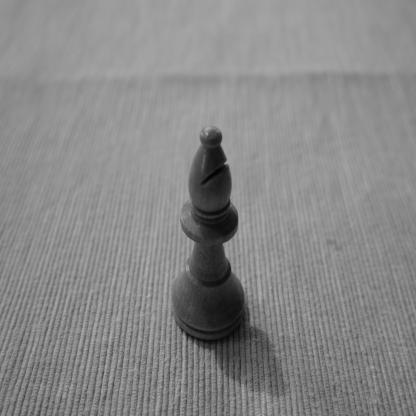white-bishop: (170, 125, 246, 342)
